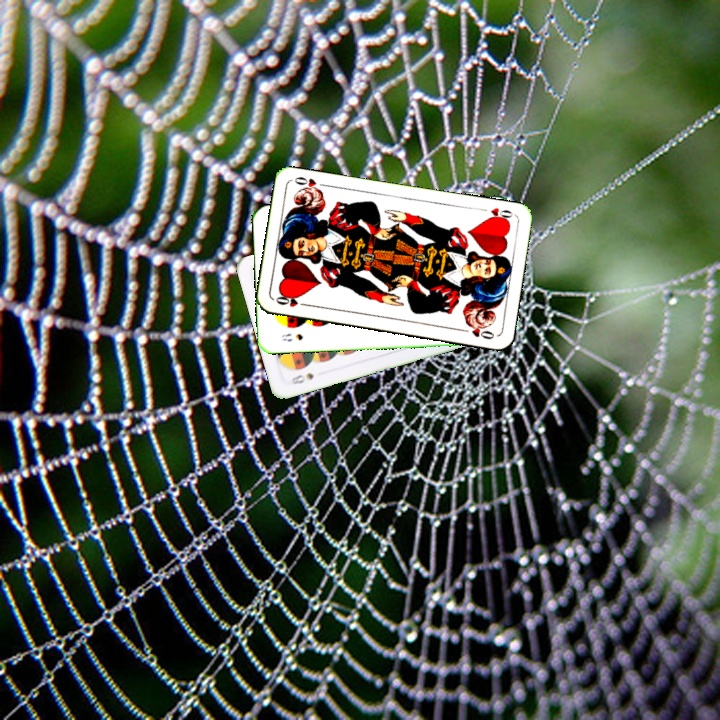HO: (272, 291, 311, 310), (483, 204, 515, 225)
S8: (285, 369, 316, 387), (278, 330, 306, 344)
